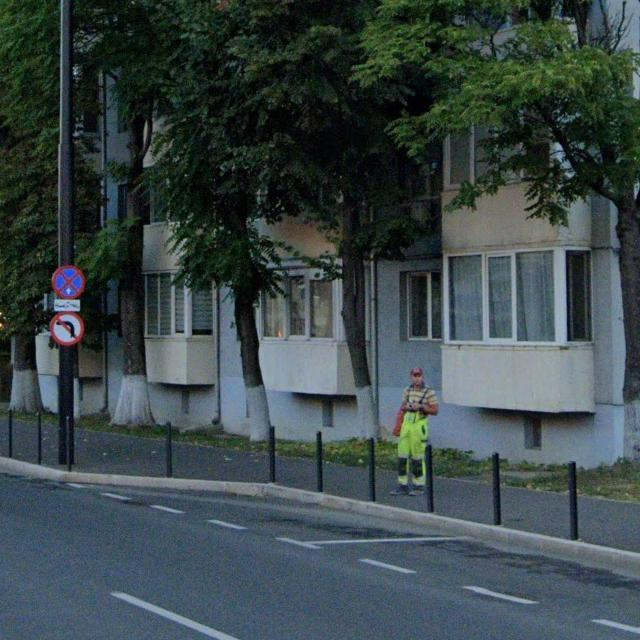forb_waiting: (52, 265, 86, 300)
